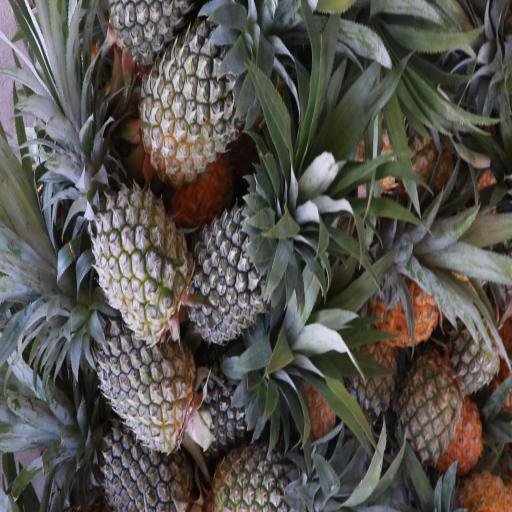------------------------------: (145, 23, 255, 166), (99, 178, 187, 330), (214, 431, 308, 512), (397, 355, 461, 459)
